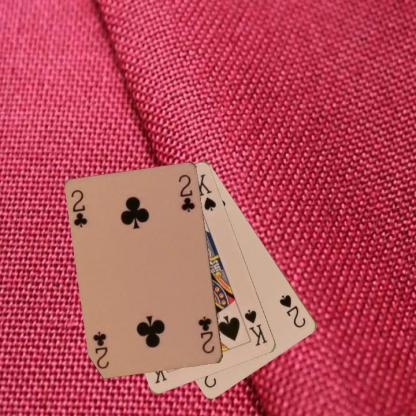2c: (195, 314, 216, 355), (69, 187, 89, 229)
2s: (277, 292, 307, 329)
Ks: (242, 307, 269, 348)
